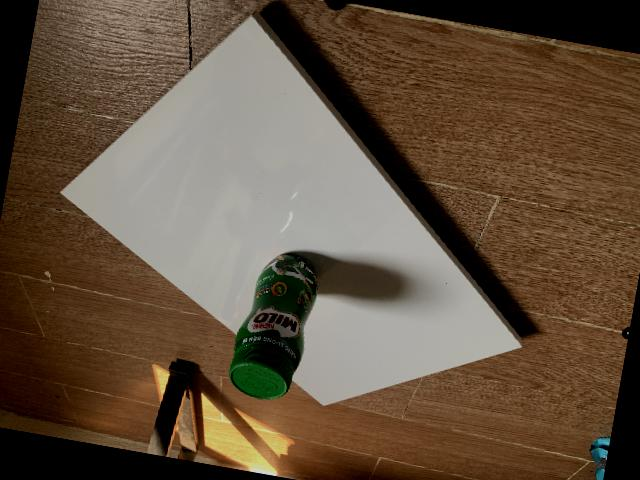milo: (227, 252, 317, 398)
